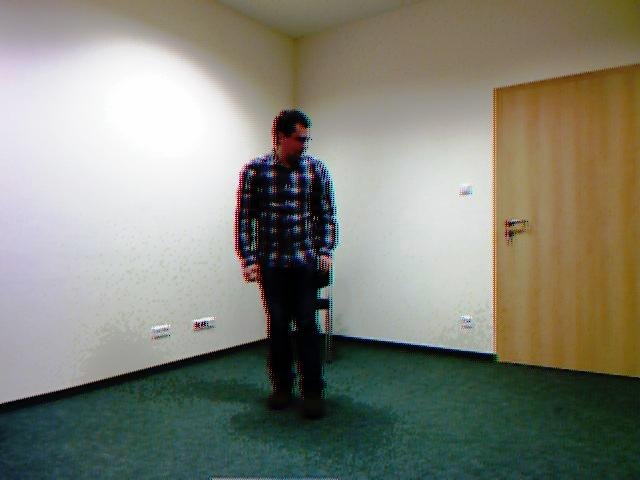standing: (233, 97, 351, 435)
